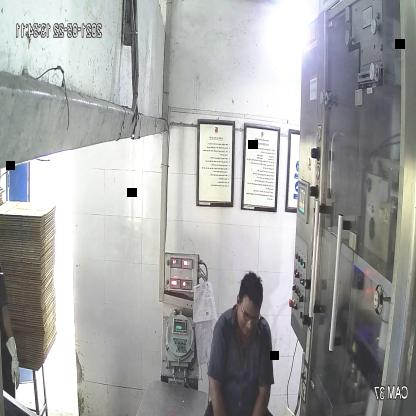goggles: (238, 306, 262, 329)
